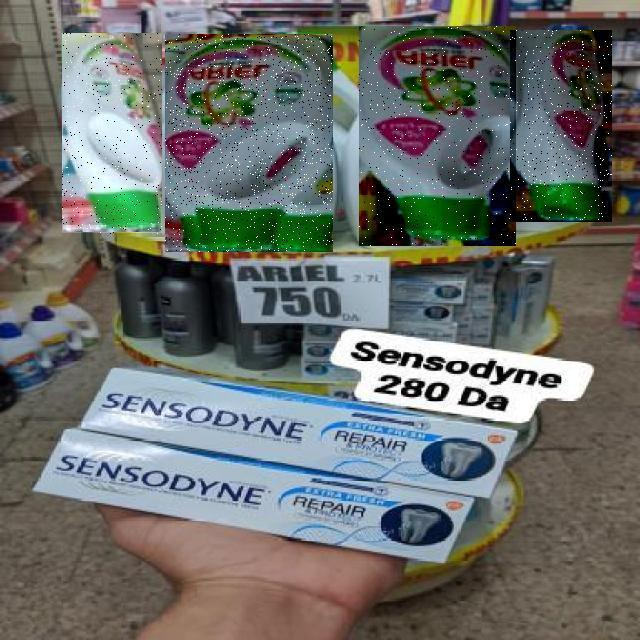Detergent: (165, 34, 333, 252), (359, 26, 516, 246), (63, 34, 163, 236), (510, 30, 612, 222)
